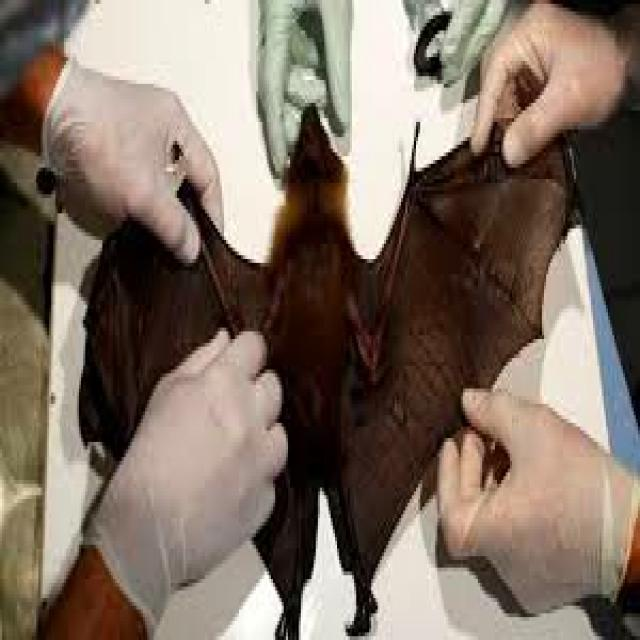bat: (81, 107, 574, 636)
